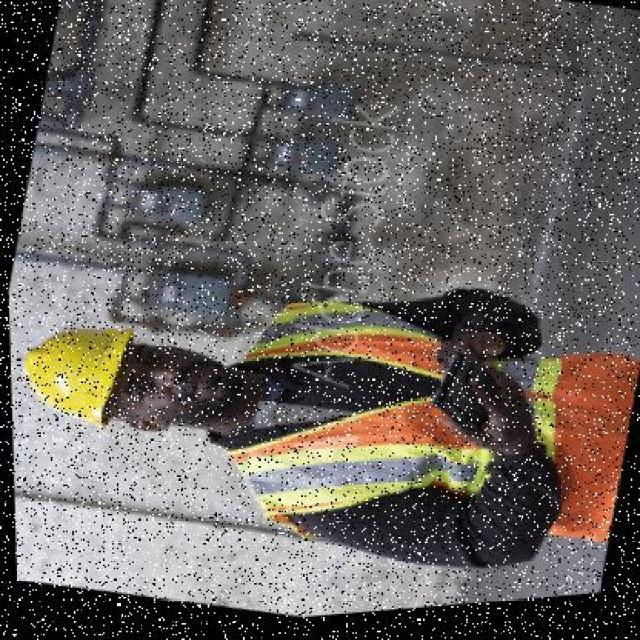helmet: (8, 302, 142, 440)
vest: (194, 255, 638, 619)
